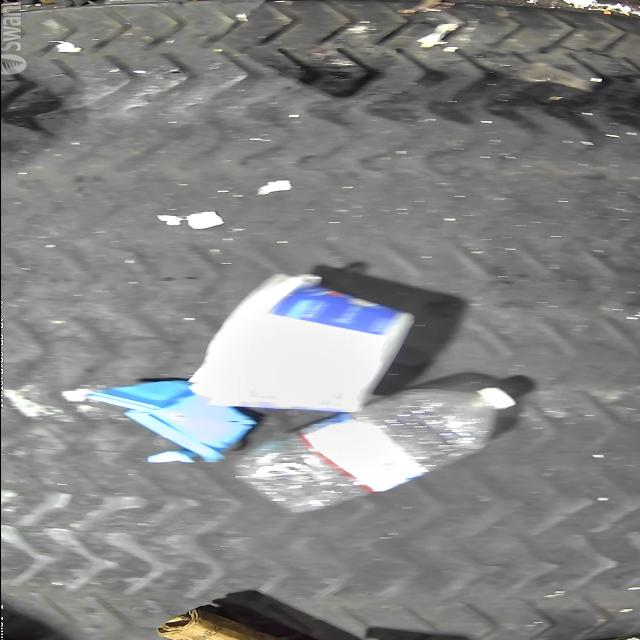plastic_bottle: (234, 386, 516, 513)
